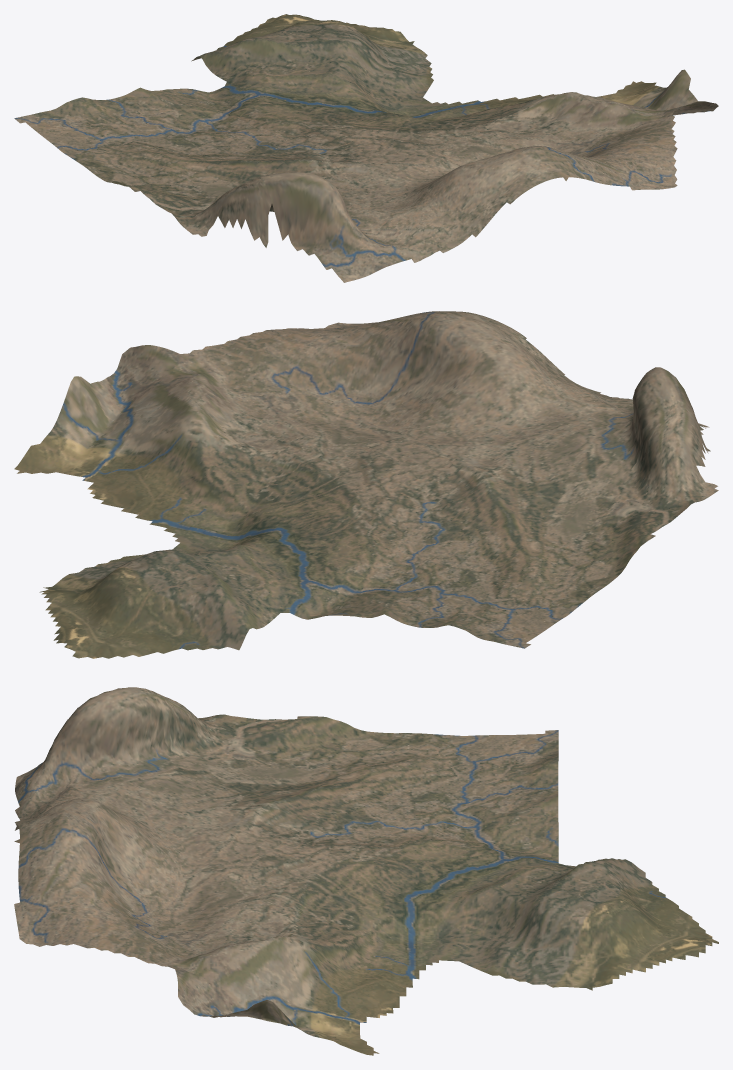
File: MountFinally2.fbx
The picture shows the model from 3 angles, top to bottom: view 1: azimuth 30°, elevation 25°; view 2: azimuth 150°, elevation 25°; view 3: azimuth 270°, elevation 25°; orthographic projection. The views are drawn at different scales.
Visible parts, largest first — view 1: Mesher; view 2: Mesher; view 3: Mesher.
Boxes of the visible parts, x1,y1,x2,y2 form: Mesher: (14,14,718,282); Mesher: (14,311,718,658); Mesher: (14,687,718,1055).
Bounding box in the file's own units: 40.11 × 7.79 × 41.32.
Materials: 1 (1 with a texture image).
